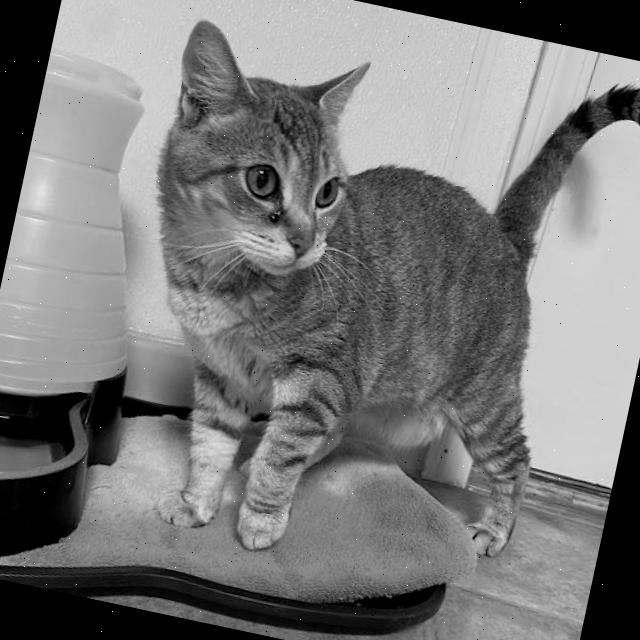american_shorthair_cat: (131, 10, 387, 299)
